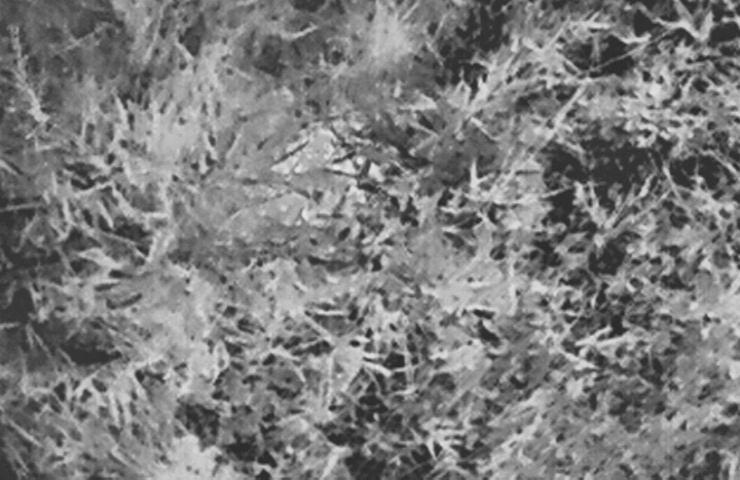landmines: (268, 116, 408, 248)
